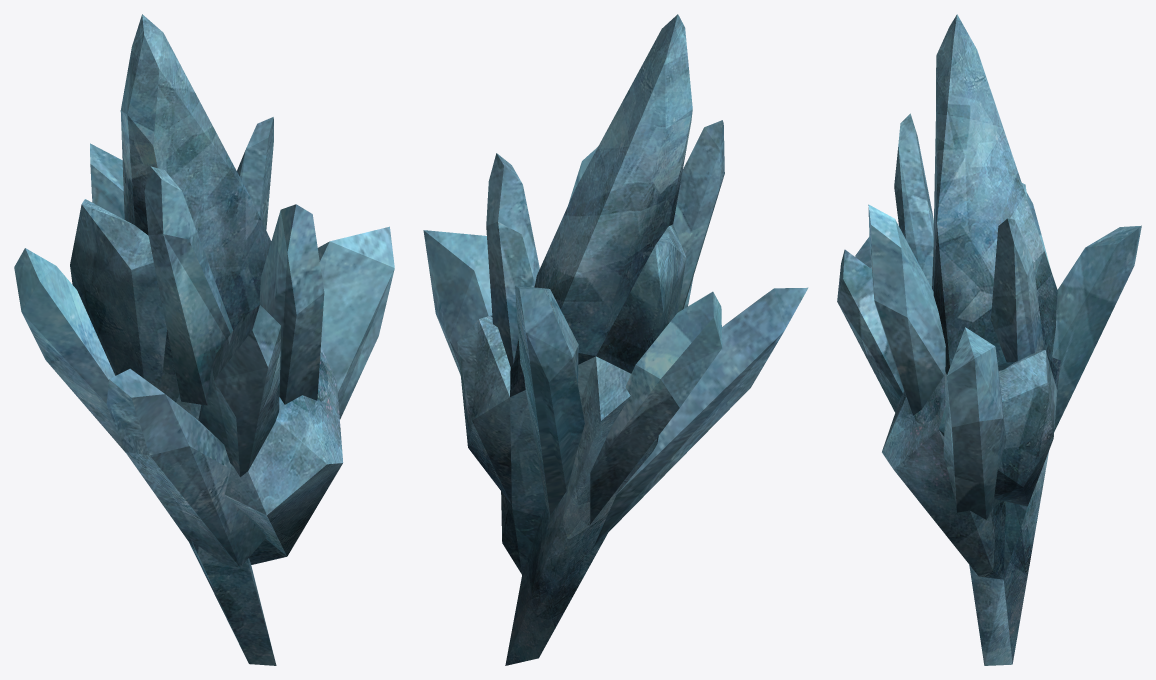
Rendered from Crystal1.fbx.
The picture shows the model from 3 angles, left to right: view 1: azimuth 30°, elevation 25°; view 2: azimuth 150°, elevation 25°; view 3: azimuth 270°, elevation 25°; orthographic projection. The views are drawn at different scales.
Parts seen in each view (by area): view 1: LV_Common_Object_C_Crystal_SM_KBE; view 2: LV_Common_Object_C_Crystal_SM_KBE; view 3: LV_Common_Object_C_Crystal_SM_KBE.
Part boxes in pixels (x1,y1,x2,y2): LV_Common_Object_C_Crystal_SM_KBE: [14, 14, 394, 665]; LV_Common_Object_C_Crystal_SM_KBE: [423, 14, 808, 665]; LV_Common_Object_C_Crystal_SM_KBE: [837, 14, 1141, 665].
Bounding box in the file's own units: 0.3683 × 0.7178 × 0.336.
